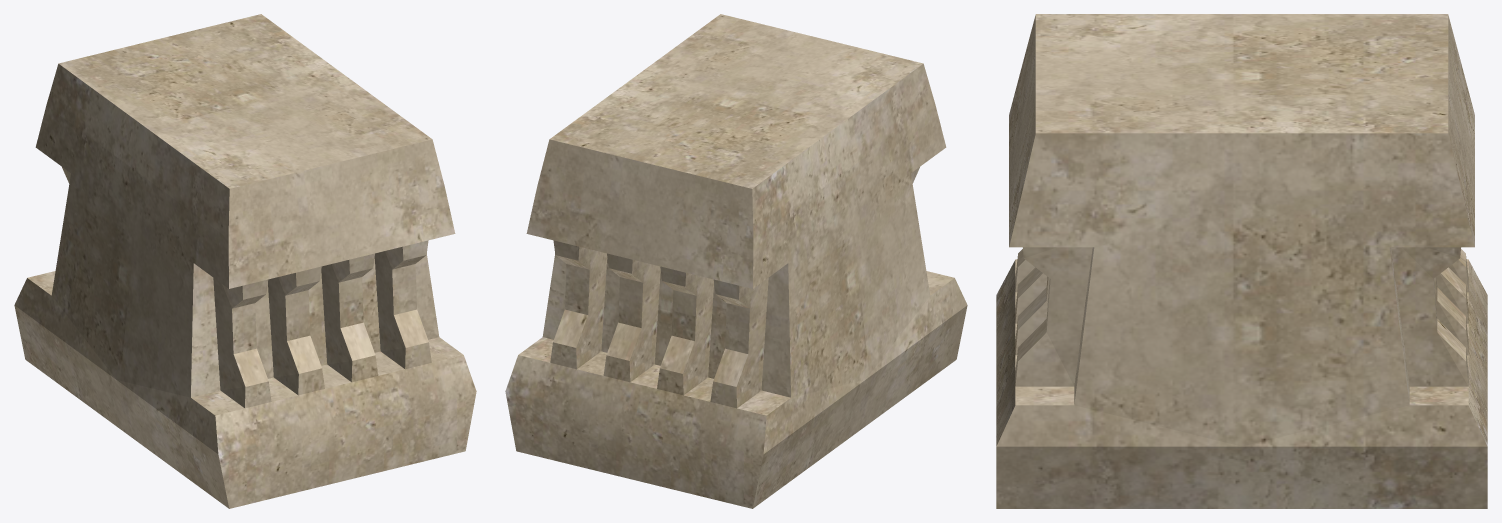
The model's file is lock_stone_for_bent_tops.FBX.
3 views of the same model, side by side, from view 1: azimuth 30°, elevation 25°; view 2: azimuth 150°, elevation 25°; view 3: azimuth 270°, elevation 25° (orthographic). The views are drawn at different scales.
Visible parts, largest first — view 1: Torus006; view 2: Torus006; view 3: Torus006.
Boxes of the visible parts, box(x1,y1,x2,y2) form: Torus006: box(14, 14, 476, 508); Torus006: box(505, 14, 967, 508); Torus006: box(996, 14, 1487, 508).
Size of the model in its own units: 56.93 by 64.05 by 77.89.
